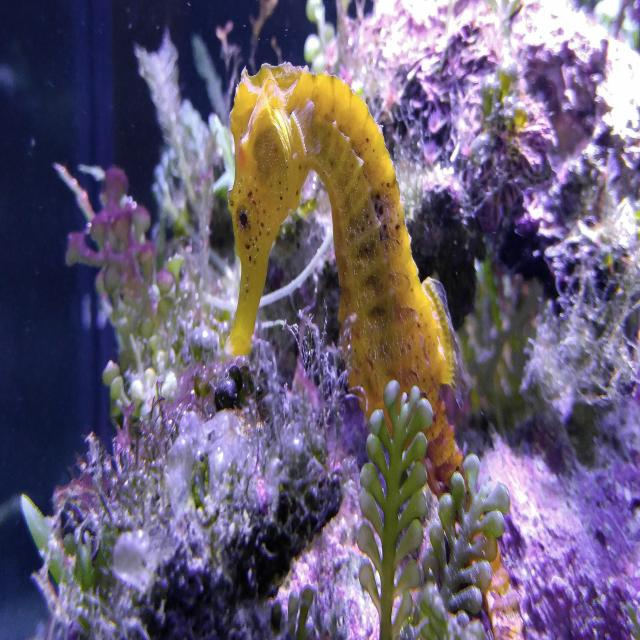seahorse: (228, 64, 461, 494)
